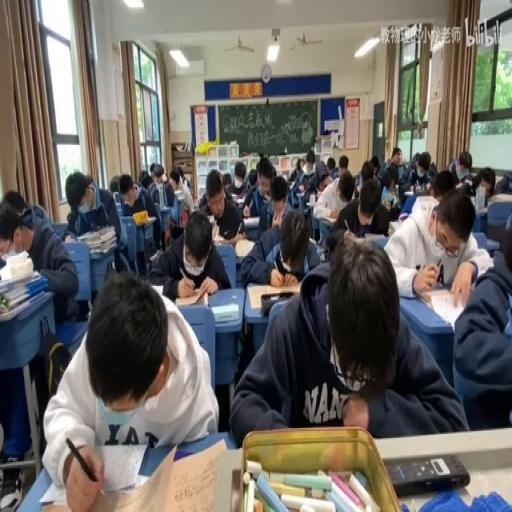calculator: (160, 436, 226, 510), (424, 288, 472, 332), (245, 282, 298, 310), (176, 283, 209, 306), (210, 301, 238, 323), (410, 193, 434, 215), (212, 232, 242, 247), (234, 238, 256, 258), (131, 213, 156, 226), (318, 213, 338, 225), (155, 182, 165, 206), (490, 192, 512, 202), (362, 232, 388, 240), (146, 283, 162, 296), (241, 215, 259, 226), (414, 182, 428, 193), (386, 220, 396, 234), (149, 248, 159, 260), (63, 234, 77, 242), (206, 214, 216, 224), (308, 234, 318, 244), (306, 196, 315, 206), (114, 202, 122, 213), (174, 188, 184, 196), (398, 212, 408, 220), (404, 189, 414, 196)
paper: (229, 235, 461, 442), (41, 269, 213, 509), (382, 185, 488, 307), (1, 189, 81, 327), (149, 206, 229, 297), (238, 195, 318, 283), (65, 168, 126, 274), (328, 175, 389, 240), (118, 170, 161, 258), (166, 168, 192, 233), (488, 206, 511, 275), (406, 148, 434, 190), (222, 161, 250, 202), (302, 151, 330, 192), (448, 148, 475, 190), (377, 158, 401, 199), (320, 228, 346, 260), (256, 155, 274, 196), (3, 191, 29, 219), (430, 168, 454, 198), (493, 170, 512, 194), (478, 168, 494, 195), (289, 158, 304, 182), (288, 180, 301, 204), (399, 158, 411, 179), (246, 166, 258, 186), (390, 146, 402, 166), (152, 166, 165, 184), (109, 174, 120, 194), (138, 168, 150, 185), (370, 154, 379, 174), (338, 154, 348, 172), (320, 175, 333, 188), (326, 155, 335, 171), (354, 172, 362, 189), (84, 174, 94, 186), (255, 158, 261, 173), (149, 162, 155, 176)
person: (384, 452, 470, 496), (230, 468, 242, 510), (302, 174, 310, 186)
